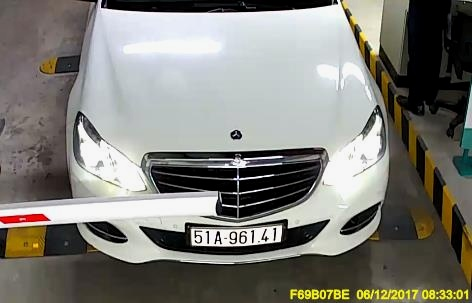plate: (188, 222, 283, 249)
